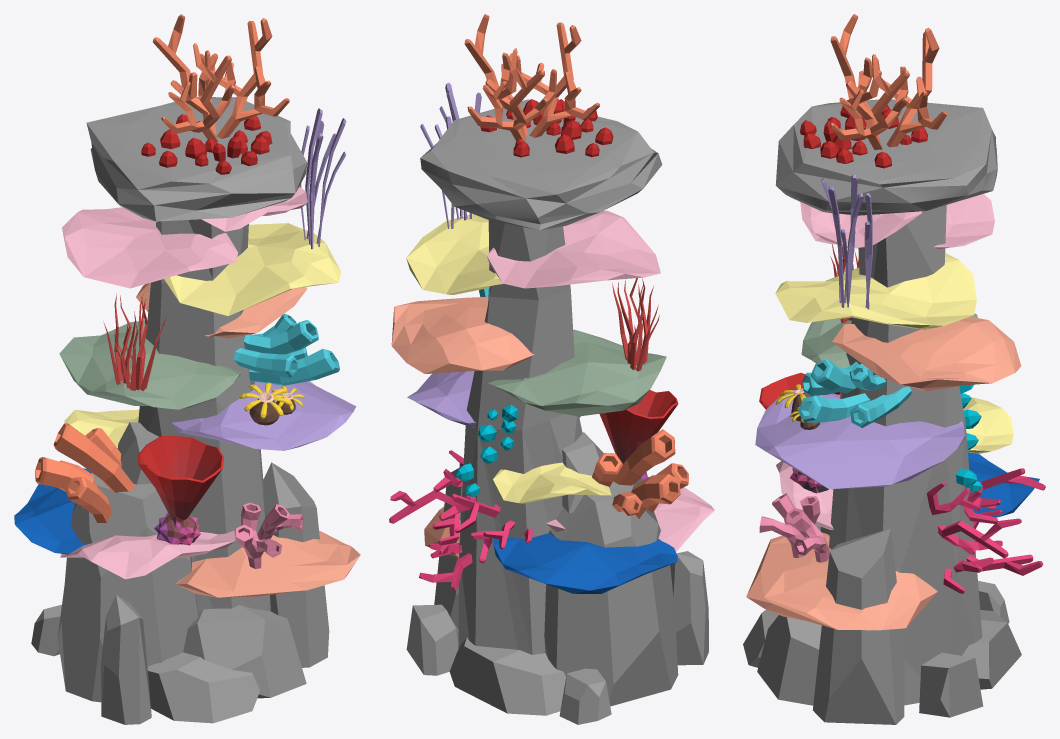
File: CoralReef1.glb
3 renders of one model, left to right at view 1: azimuth 30°, elevation 25°; view 2: azimuth 150°, elevation 25°; view 3: azimuth 270°, elevation 25°, orthographic. The views are drawn at different scales.
Visible parts, largest first — view 1: Coral_reef_003; view 2: Coral_reef_003; view 3: Coral_reef_003.
Part boxes in pixels (x1=…): Coral_reef_003: x1=14, y1=14, x2=360, y2=724; Coral_reef_003: x1=389, y1=14, x2=714, y2=724; Coral_reef_003: x1=743, y1=14, x2=1045, y2=724.
Size of what is drawn, in the model's own units: 2.35 by 4.98 by 2.11.
1 material, 1 textured.
